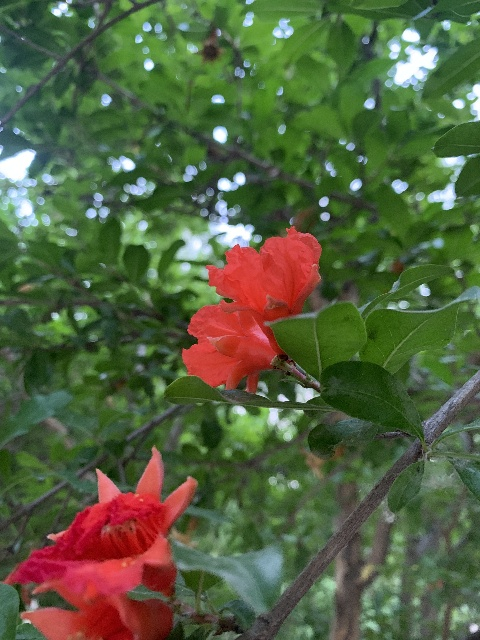flower: (4, 446, 196, 606), (205, 225, 322, 350), (181, 300, 280, 393), (19, 583, 174, 640)
